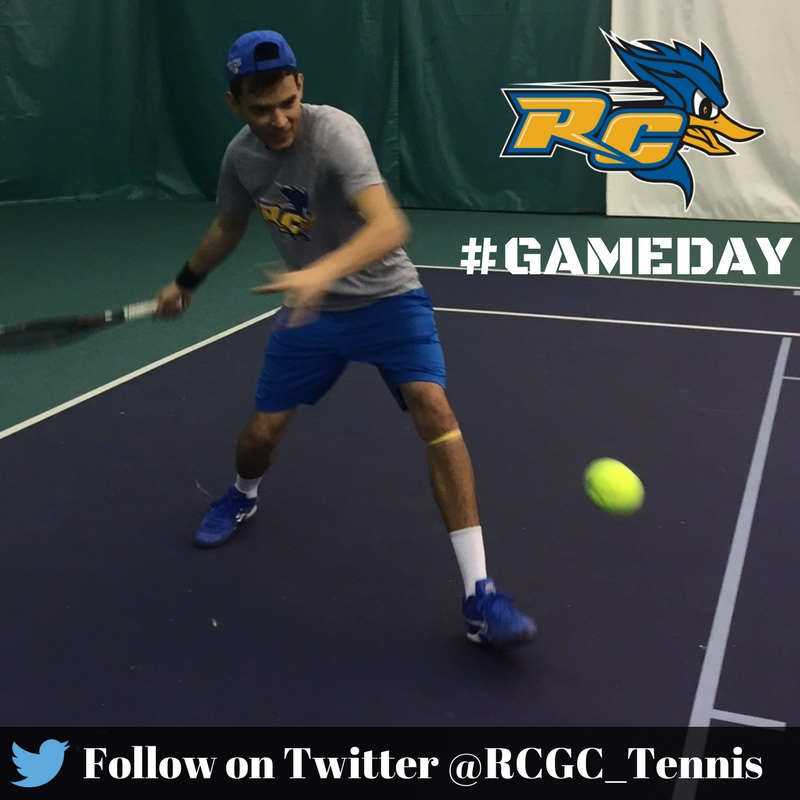tennis_ball: (582, 455, 647, 519)
